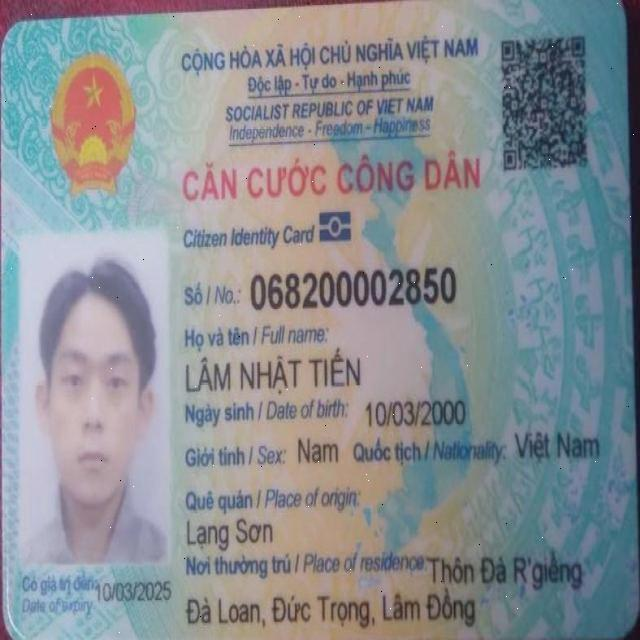current_place: (183, 587, 484, 632), (425, 544, 590, 588)
dob: (361, 390, 477, 432)
expire_date: (92, 573, 180, 609)
gender: (292, 432, 346, 467)
id: (246, 253, 471, 322)
name: (181, 349, 379, 393)
nationality: (511, 421, 609, 464)
origin_place: (183, 512, 294, 552)
